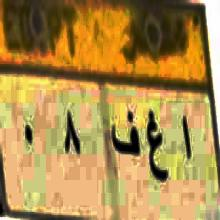0: (14, 106, 41, 152)
8: (62, 108, 81, 164)
alif: (179, 106, 200, 171)
faa: (111, 100, 139, 162)
ghayn: (146, 102, 169, 193)
